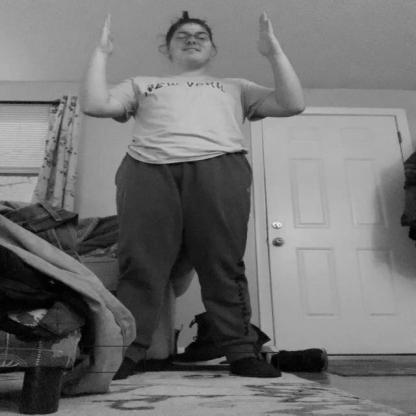person: (77, 8, 306, 379)
